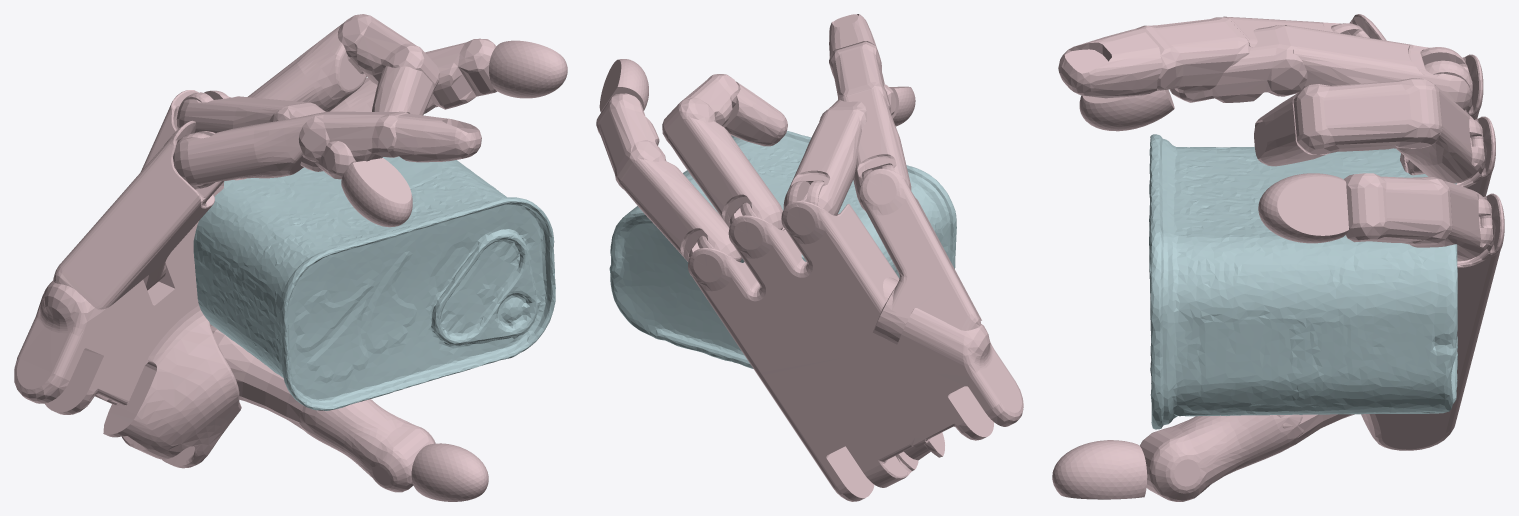
File: grasp_0.glb
3 renders of one model, left to right at view 1: azimuth 30°, elevation 25°; view 2: azimuth 150°, elevation 25°; view 3: azimuth 270°, elevation 25°, orthographic. The views are drawn at different scales.
Parts seen in each view (by area): view 1: world; view 2: world; view 3: world.
Part boxes in pixels (<box>): world: <box>14,14,567,501</box>; world: <box>596,14,1023,501</box>; world: <box>1052,14,1504,501</box>.
Bounding box in the file's own units: 0.1878 × 0.1451 × 0.1224.
